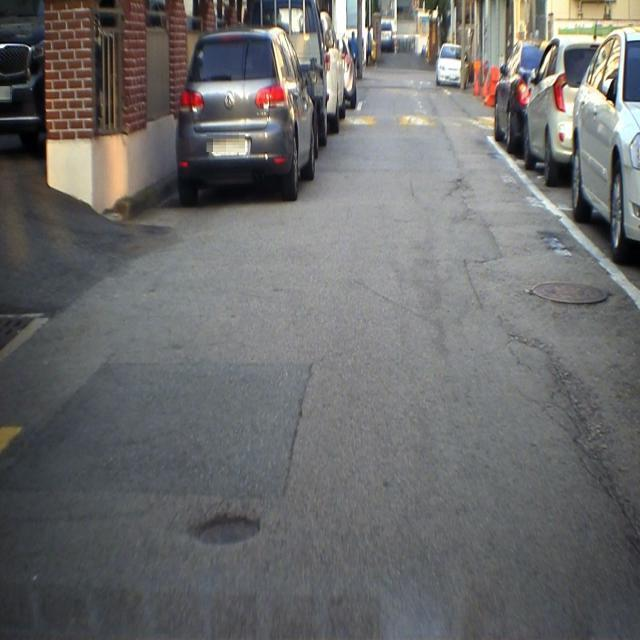pothole: (185, 504, 270, 564)
